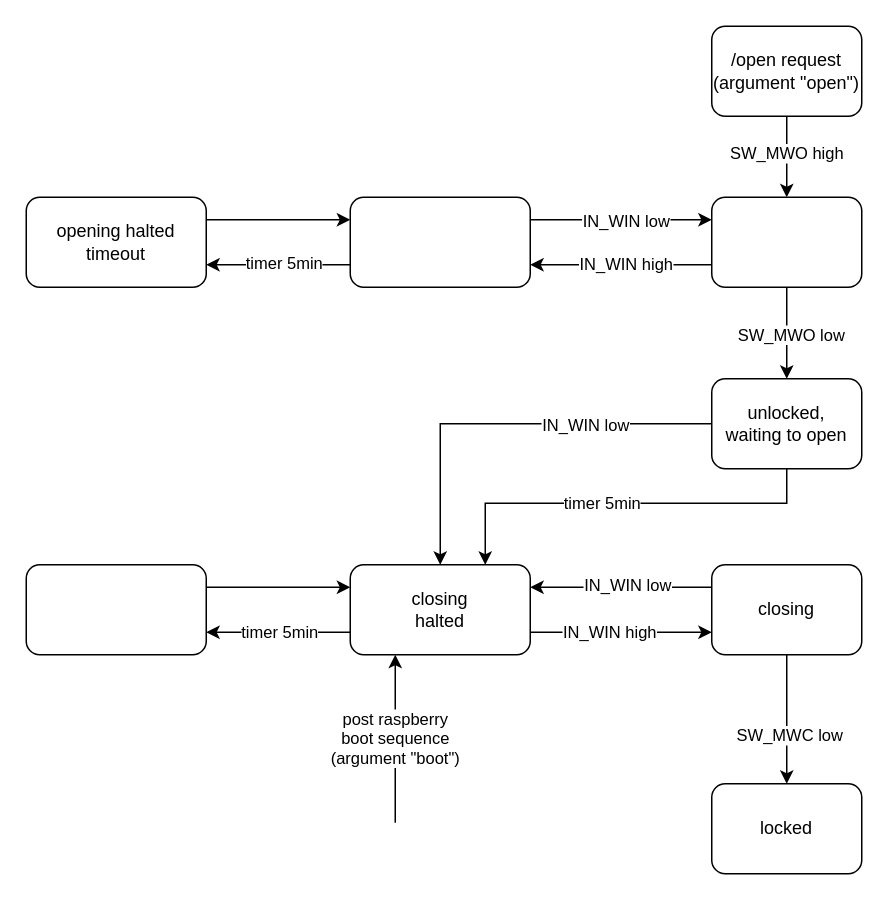
This 888x900 diagram has some shape labels left out. Here are the shapes that lost their labels. From the top down, the centre of each, then its label:
the point at 439,241: opening halted
the point at 786,241: opening
the point at 115,609: closing halted timeout
